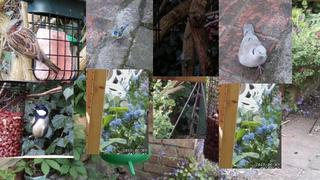blue tit: (111, 24, 129, 47)
collared dove: (238, 24, 268, 75)
great tit: (18, 105, 50, 144)
sparrow: (6, 19, 62, 75)
